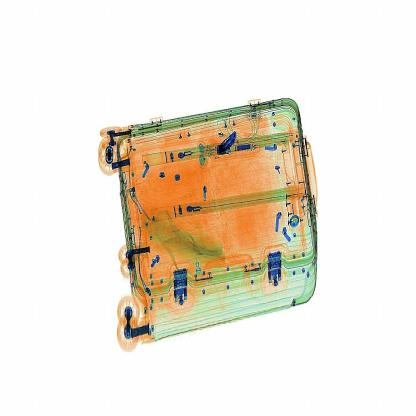knife: (215, 126, 249, 166)
